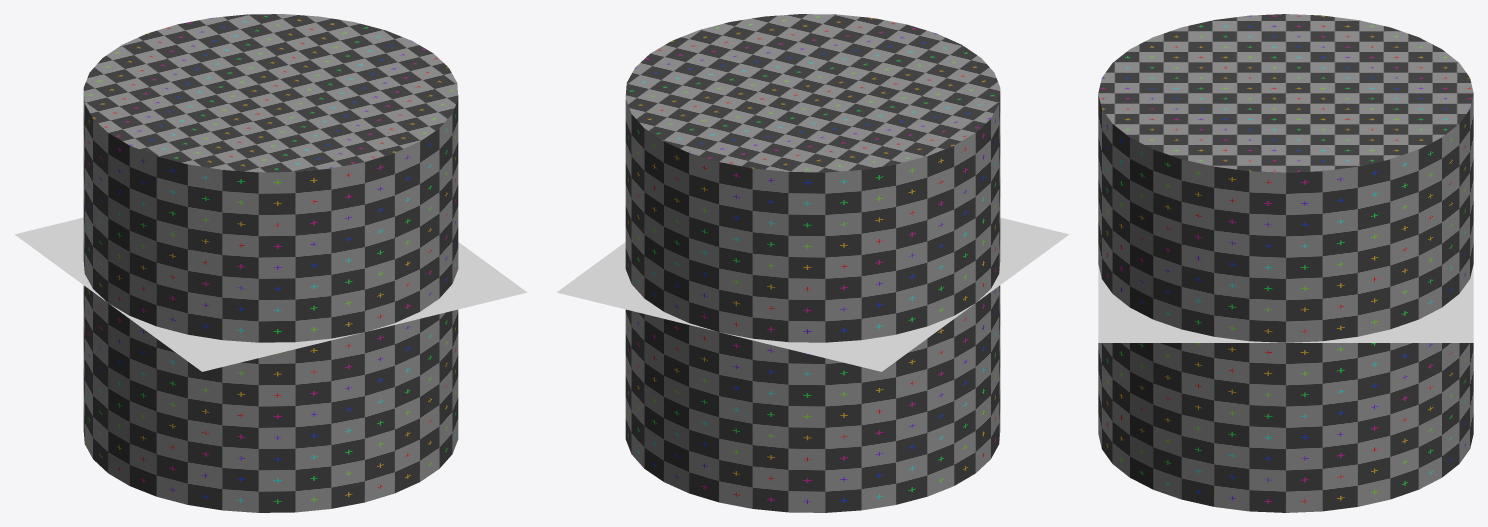
The picture shows the model from 3 angles, left to right: view 1: azimuth 30°, elevation 25°; view 2: azimuth 150°, elevation 25°; view 3: azimuth 270°, elevation 25°; orthographic projection.
Visible parts, largest first — view 1: Cylinder, Plane; view 2: Cylinder, Plane; view 3: Cylinder, Plane.
Boxes of the visible parts, x1,y1,x2,y2 form: Cylinder: (83,14,458,512); Plane: (14,217,527,371); Cylinder: (625,14,1000,512); Plane: (556,217,1069,371); Cylinder: (1098,14,1473,512); Plane: (1098,265,1473,342).
Bounding box in the file's own units: 2 × 2 × 2.
1 material, 1 textured.
